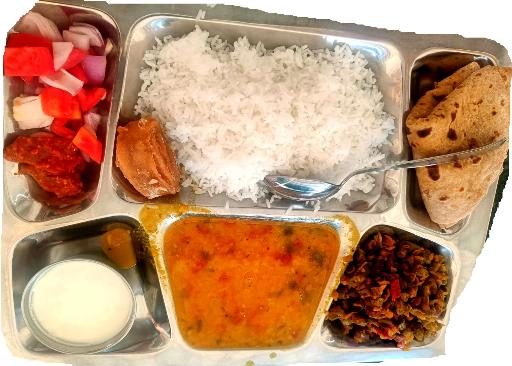Curd: (20, 254, 141, 353)
Dal: (170, 222, 326, 348)
Pickle: (9, 136, 79, 204)
Rice: (130, 20, 391, 205)
Roti: (405, 54, 512, 222)
Salad: (10, 13, 108, 130)
Sweet: (116, 115, 178, 196)
Vegetable: (331, 230, 450, 349)
